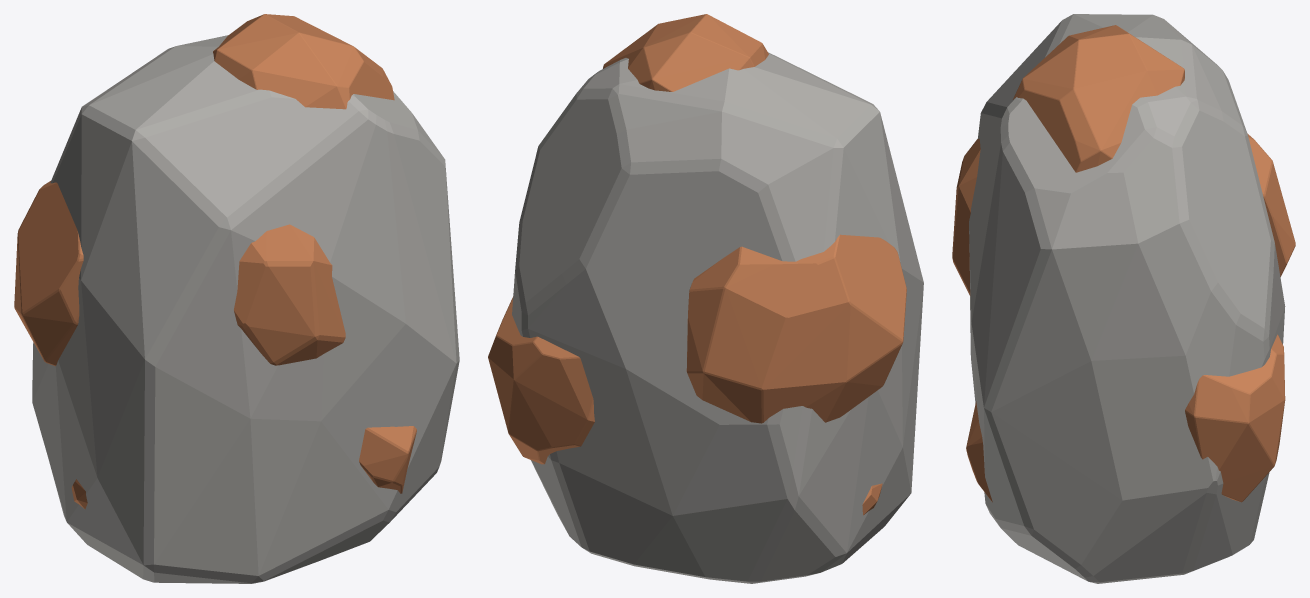
File: ore_vein_copper.glb
3 views of the same model, side by side, from view 1: azimuth 30°, elevation 25°; view 2: azimuth 150°, elevation 25°; view 3: azimuth 270°, elevation 25° (orthographic). The views are drawn at different scales.
Parts seen in each view (by area): view 1: OreVein_Copper_Rock, OreVein_Copper; view 2: OreVein_Copper_Rock, OreVein_Copper; view 3: OreVein_Copper_Rock, OreVein_Copper.
Part boxes in pixels (<box>): OreVein_Copper_Rock: <box>32,35,459,583</box>; OreVein_Copper: <box>14,14,416,509</box>; OreVein_Copper_Rock: <box>512,52,923,583</box>; OreVein_Copper: <box>488,14,906,515</box>; OreVein_Copper_Rock: <box>969,14,1285,583</box>; OreVein_Copper: <box>952,25,1295,502</box>.
Size of the model in its own units: 1.05 by 1.29 by 0.8181.
